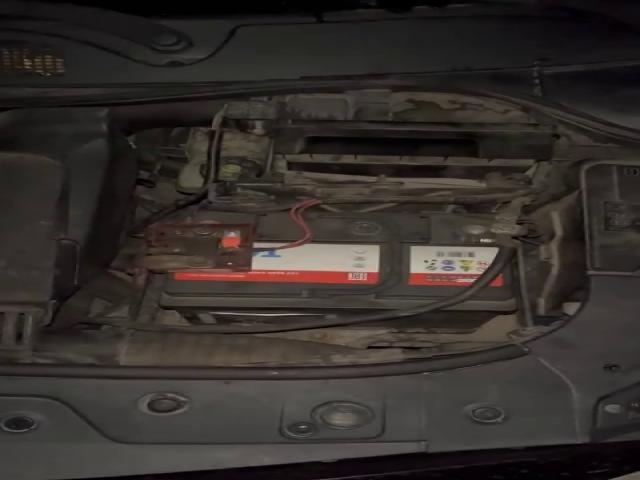accumulator: (142, 207, 512, 331)
fuse_box: (583, 164, 640, 272)
